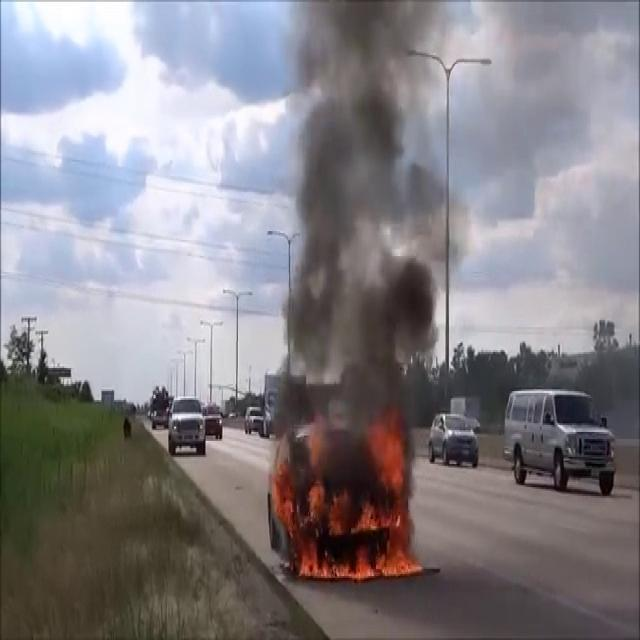Fire: (272, 417, 425, 586)
Smoke: (276, 0, 465, 428)
